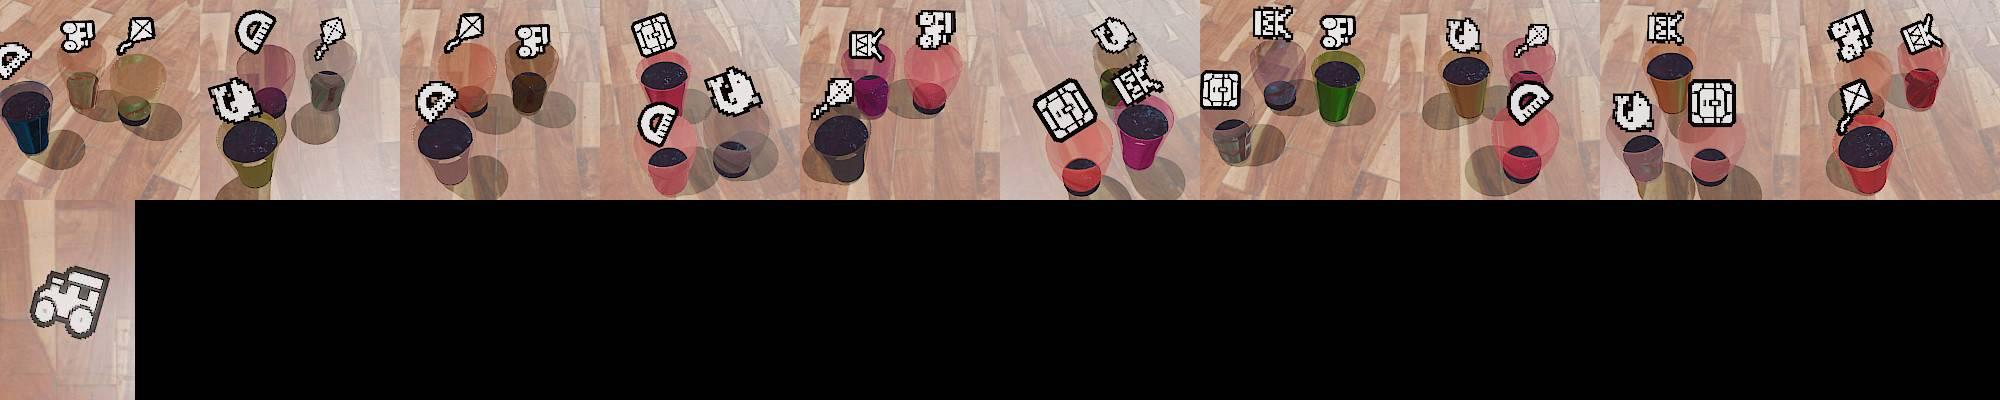icon: (27, 265, 111, 340), (1033, 78, 1098, 144), (703, 66, 764, 118), (1109, 56, 1165, 108), (1826, 9, 1875, 63), (1686, 78, 1738, 128), (207, 76, 261, 123), (630, 12, 677, 60), (1506, 79, 1554, 126), (1837, 79, 1878, 134), (636, 101, 681, 149), (414, 79, 460, 125), (811, 74, 855, 121), (234, 9, 278, 55), (1091, 13, 1139, 55), (1899, 14, 1943, 57), (443, 12, 486, 56), (1611, 90, 1654, 132), (1252, 4, 1295, 43), (311, 16, 346, 63), (1201, 70, 1241, 111), (115, 16, 155, 56), (1318, 14, 1356, 52), (514, 22, 551, 61), (1646, 11, 1686, 47), (1445, 17, 1483, 54), (59, 19, 98, 55), (0, 41, 33, 82), (915, 9, 955, 42), (848, 28, 885, 62), (1515, 23, 1551, 56)
